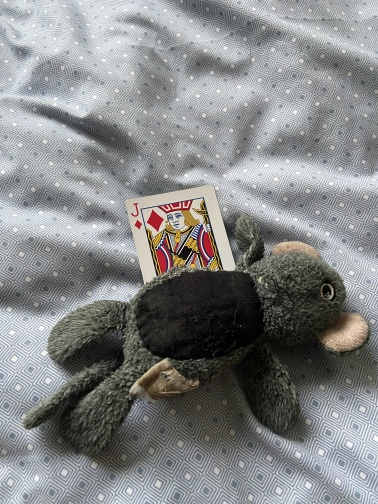jack: (123, 183, 242, 328)
